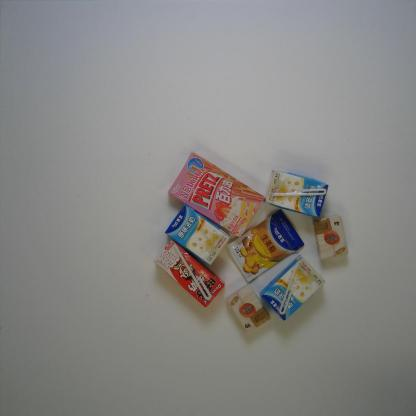Dessert: (167, 152, 265, 239)
Milk: (153, 239, 225, 308), (260, 255, 325, 322), (164, 204, 231, 266), (263, 170, 329, 218)
Seasoner: (225, 209, 305, 283)
Tissue: (226, 284, 272, 333), (313, 215, 348, 260)
